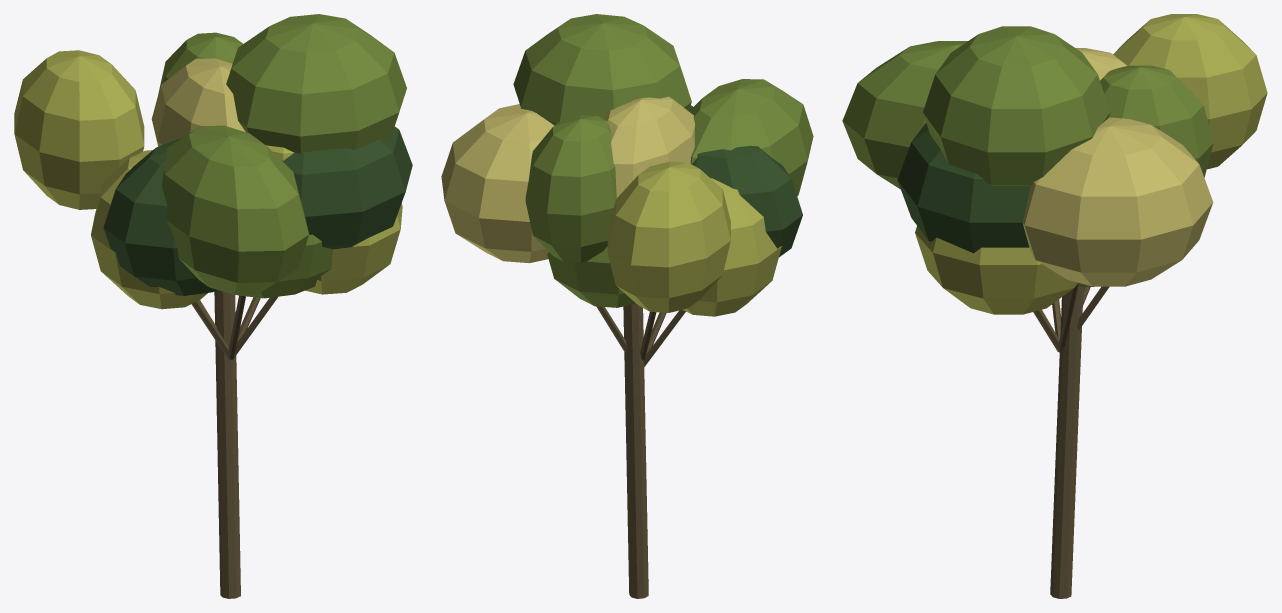
The model's file is Forest_BacklitTree_09.obj.
The picture shows the model from 3 angles, left to right: view 1: azimuth 30°, elevation 25°; view 2: azimuth 150°, elevation 25°; view 3: azimuth 270°, elevation 25°; orthographic projection. The views are drawn at different scales.
Parts seen in each view (by area): view 1: Forest_BacklitTree_09; view 2: Forest_BacklitTree_09; view 3: Forest_BacklitTree_09.
Boxes of the visible parts, x1,y1,x2,y2 form: Forest_BacklitTree_09: (14,14,412,598); Forest_BacklitTree_09: (441,14,813,598); Forest_BacklitTree_09: (842,14,1267,598).
Bounding box in the file's own units: 5.79 × 10.08 × 6.6.
1 material, 1 textured.
